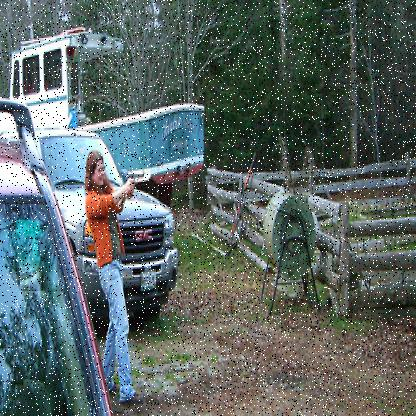pistol: (127, 168, 145, 196)
